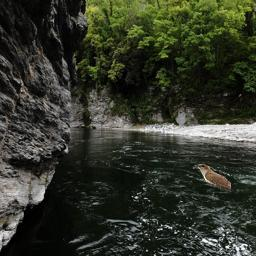Cuckoo: (193, 164, 231, 192)
